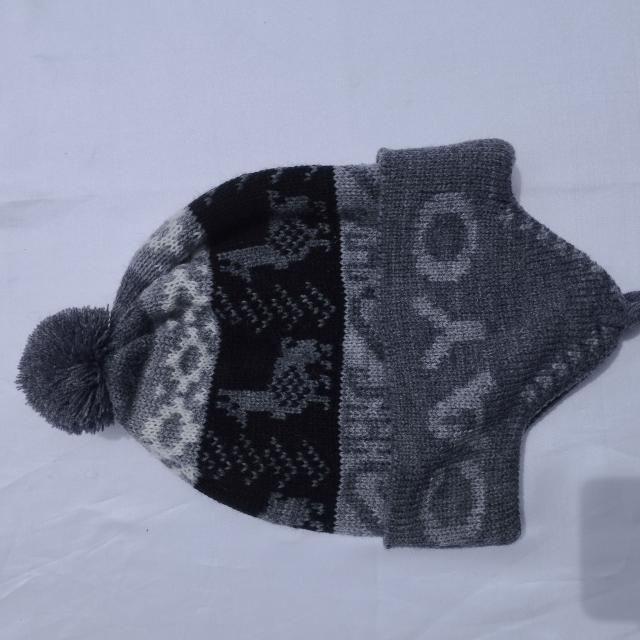Gorro: (15, 136, 639, 550)
